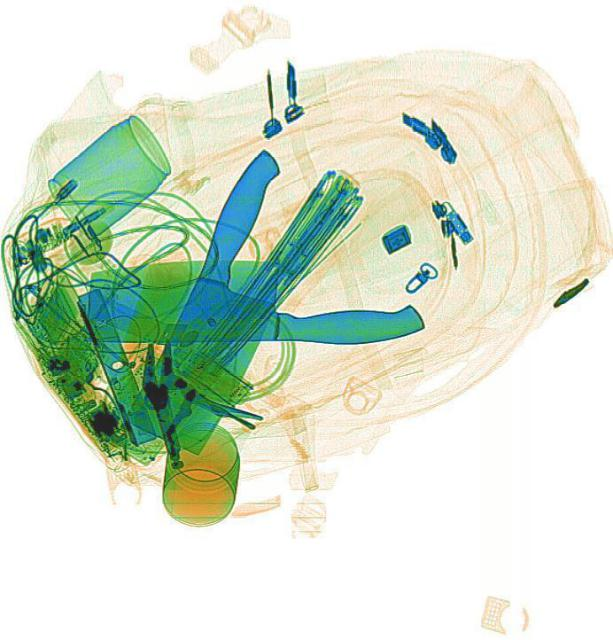Knife: (116, 143, 337, 454), (84, 250, 423, 354)
